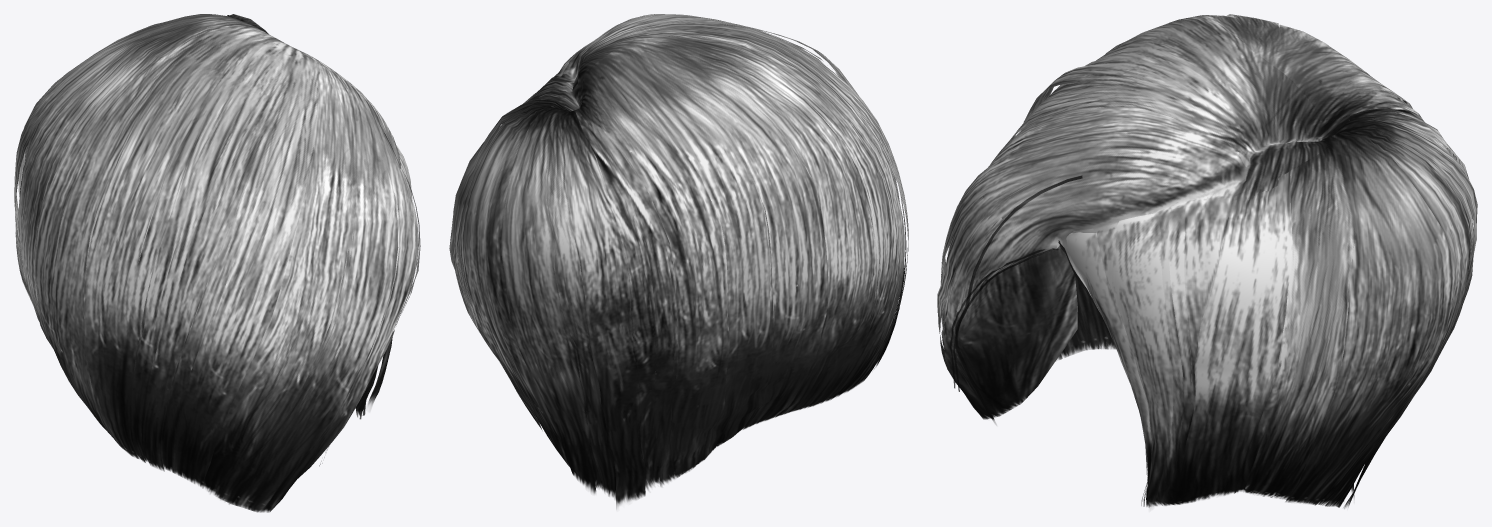
File: hair_bob01.gltf
The picture shows the model from 3 angles, left to right: view 1: azimuth 30°, elevation 25°; view 2: azimuth 150°, elevation 25°; view 3: azimuth 270°, elevation 25°; orthographic projection. The views are drawn at different scales.
Parts seen in each view (by area): view 1: hair_bob01; view 2: hair_bob01; view 3: hair_bob01.
Part boxes in pixels (x1,y1,x2,y2): hair_bob01: (14,14,420,512); hair_bob01: (449,14,908,508); hair_bob01: (937,14,1477,508).
Size of the model in its own units: 0.2089 by 0.2339 by 0.2469.
Materials: 1 (1 with a texture image).
